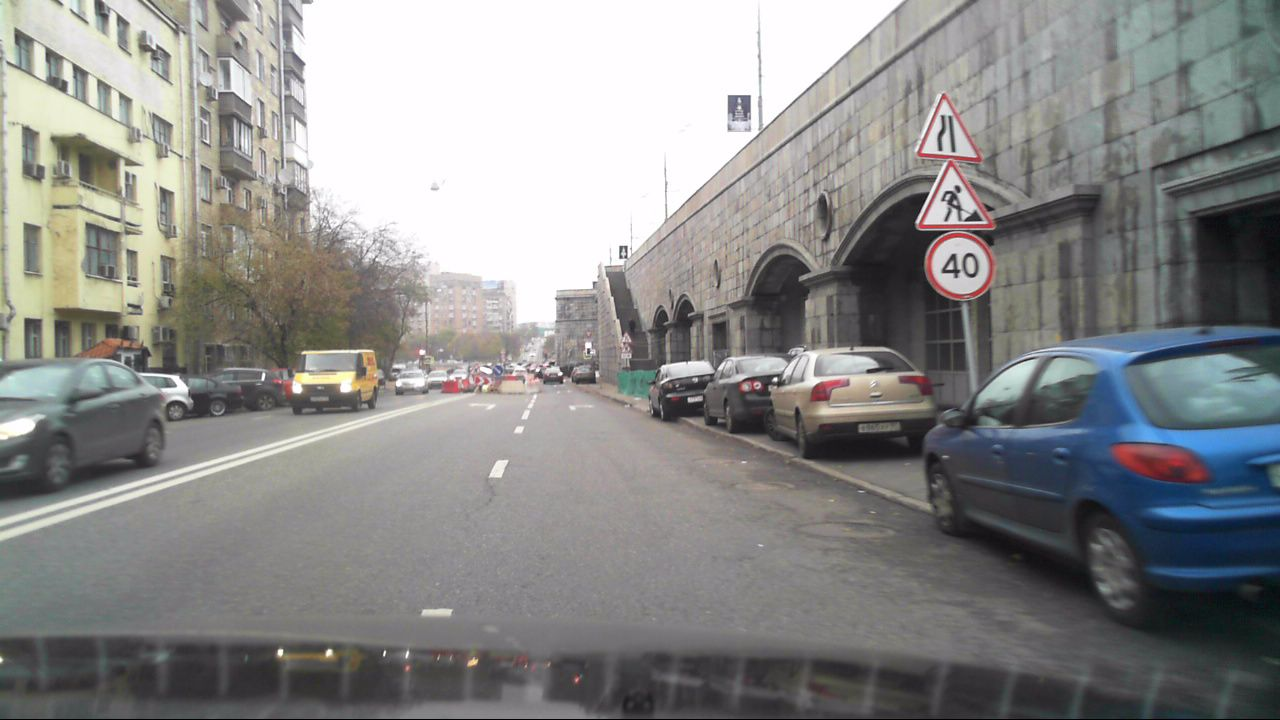speed_warning_40: (925, 227, 997, 300)
